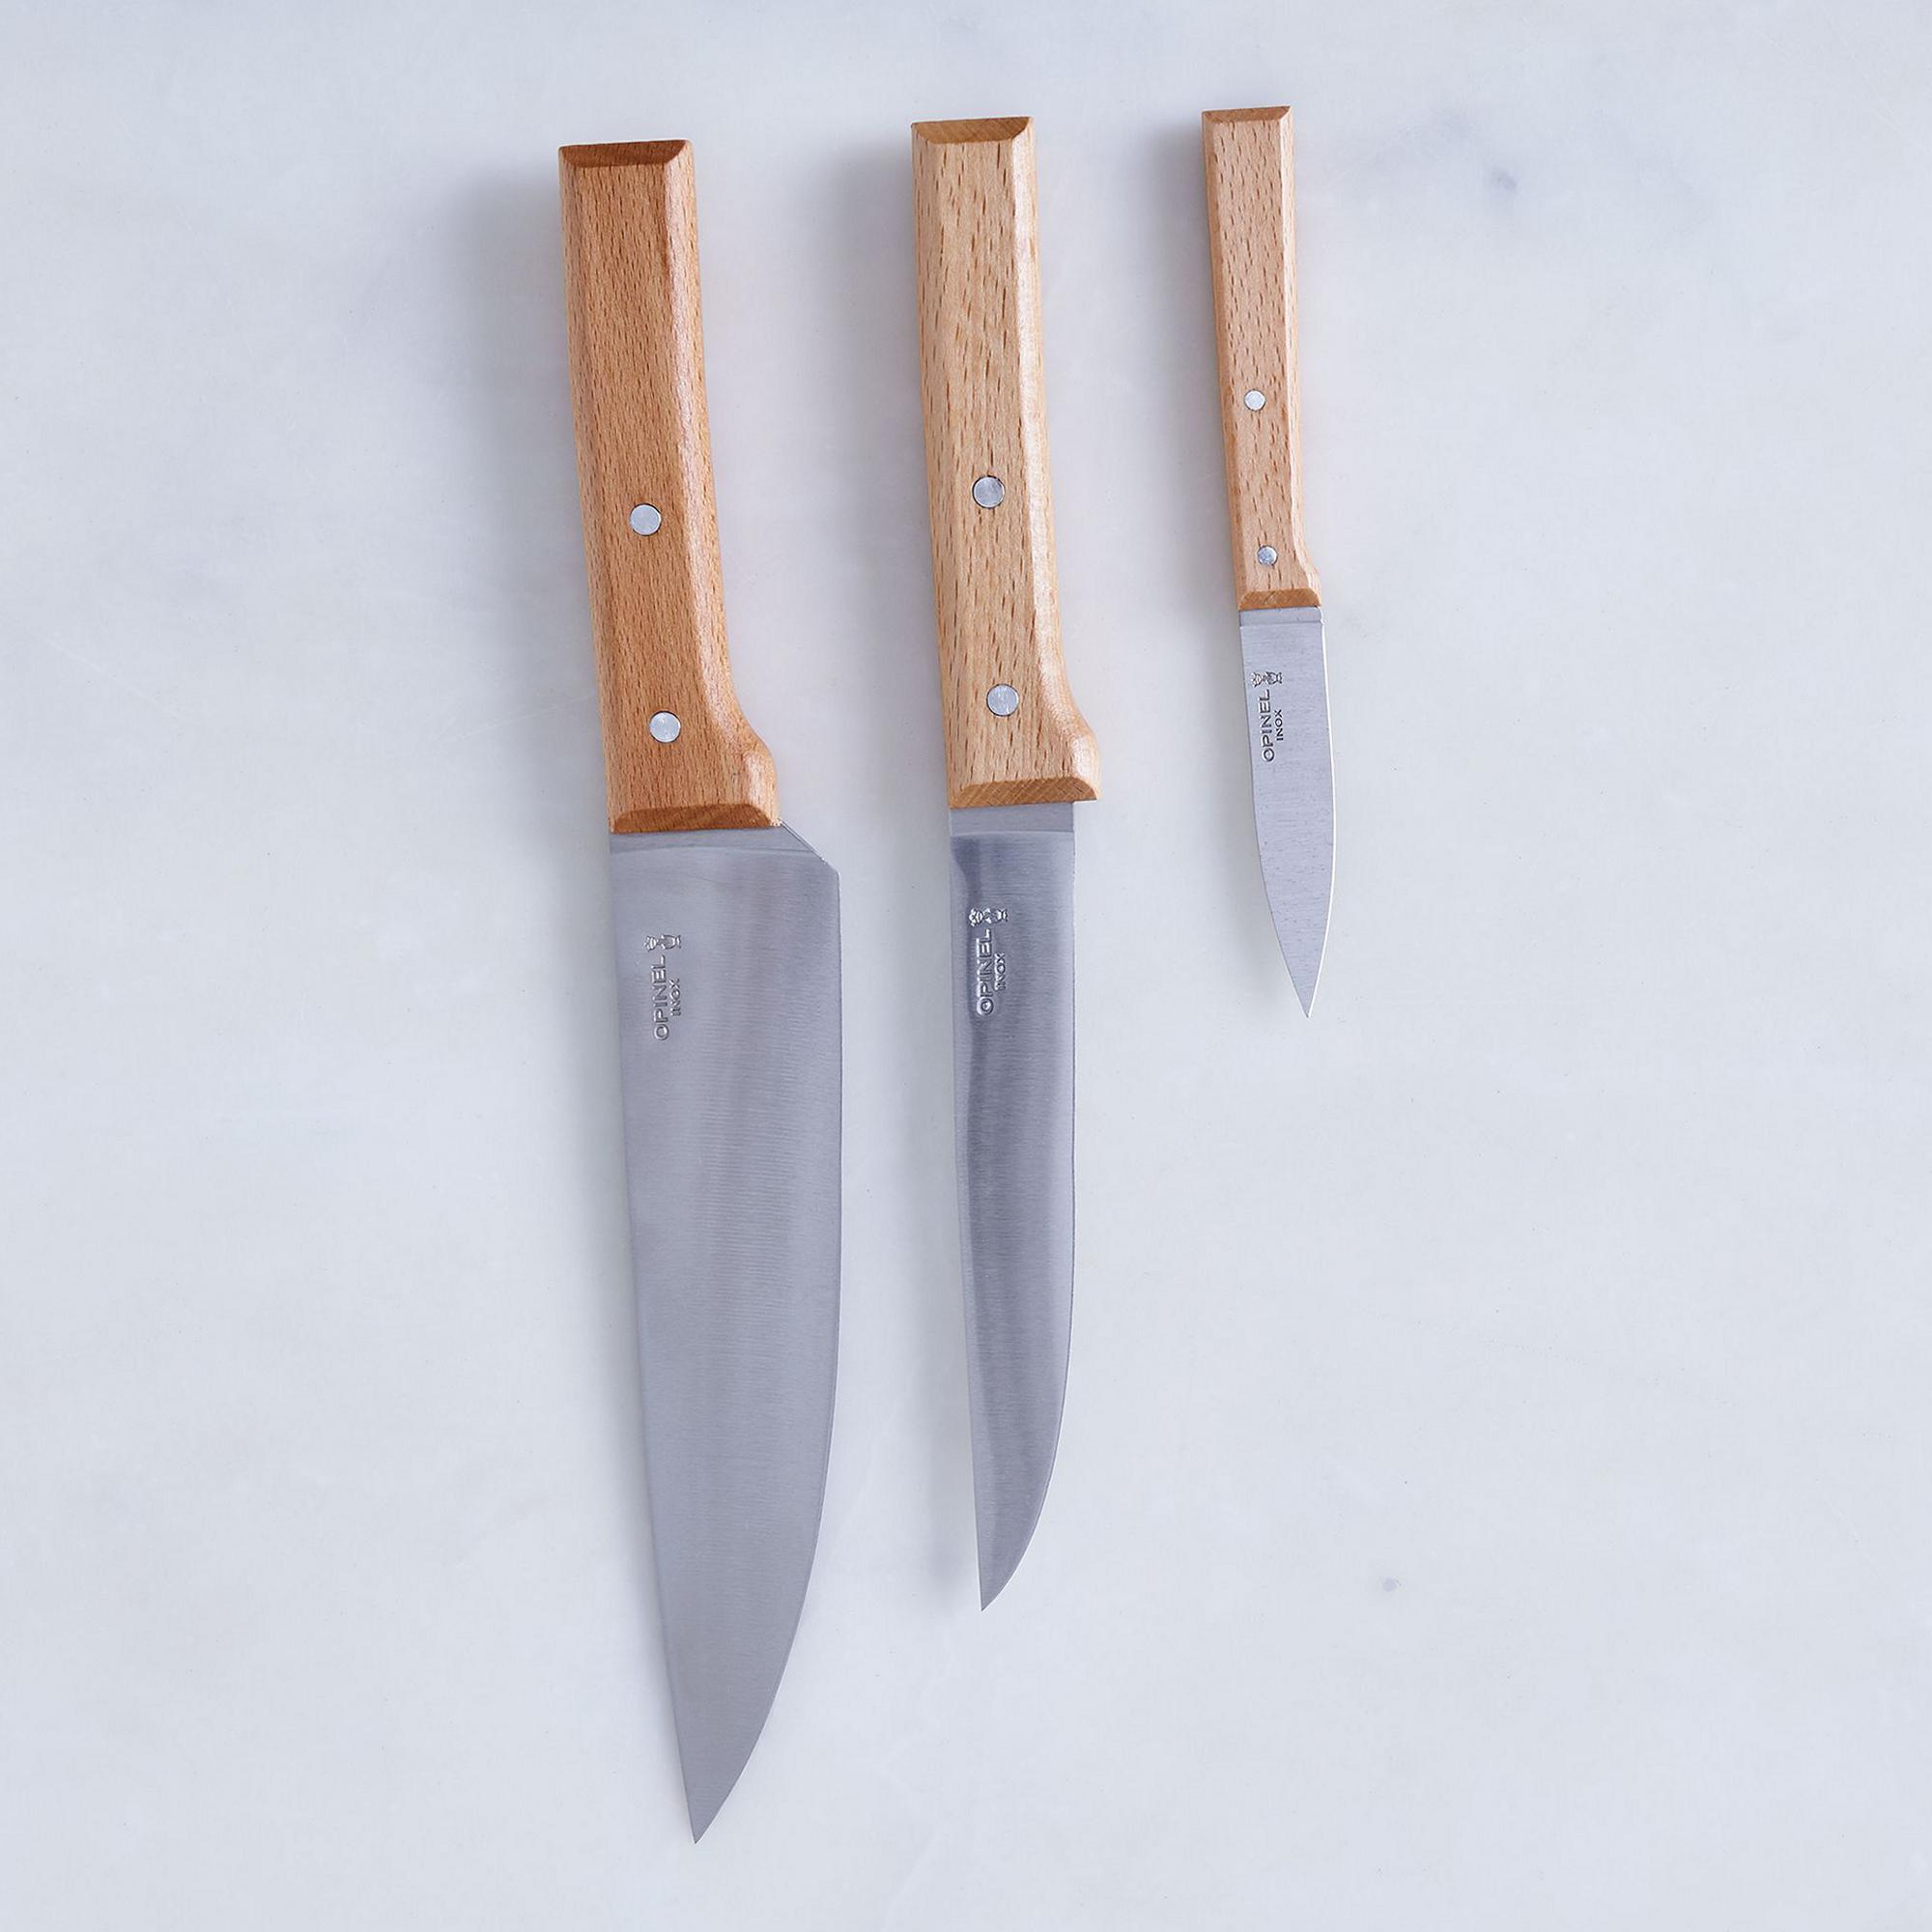knife: (552, 143, 826, 1852), (902, 110, 1116, 1610), (1194, 101, 1341, 1024)
